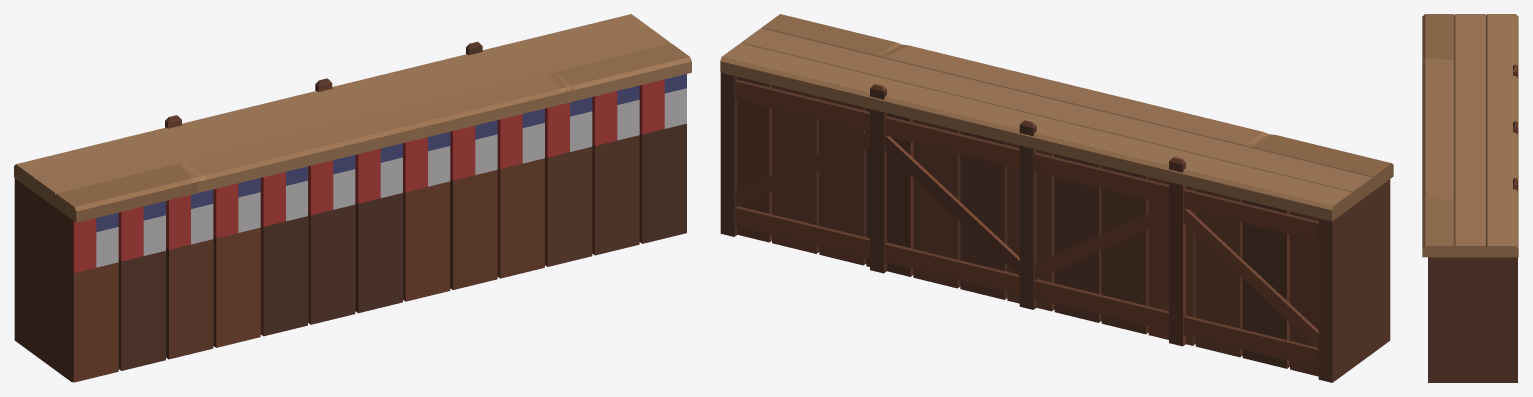
The model's file is fonda-bar-counter-run-158f9d.glb.
The picture shows the model from 3 angles, left to right: view 1: azimuth 30°, elevation 25°; view 2: azimuth 150°, elevation 25°; view 3: azimuth 270°, elevation 25°; orthographic projection. The views are drawn at different scales.
Parts seen in each view (by area): view 1: counter; view 2: counter; view 3: counter.
Part boxes in pixels (x1,y1,x2,y2): counter: [14, 14, 691, 382]; counter: [720, 14, 1393, 382]; counter: [1422, 14, 1518, 382].
Size of the model in its own units: 4 by 1.16 by 0.7.
